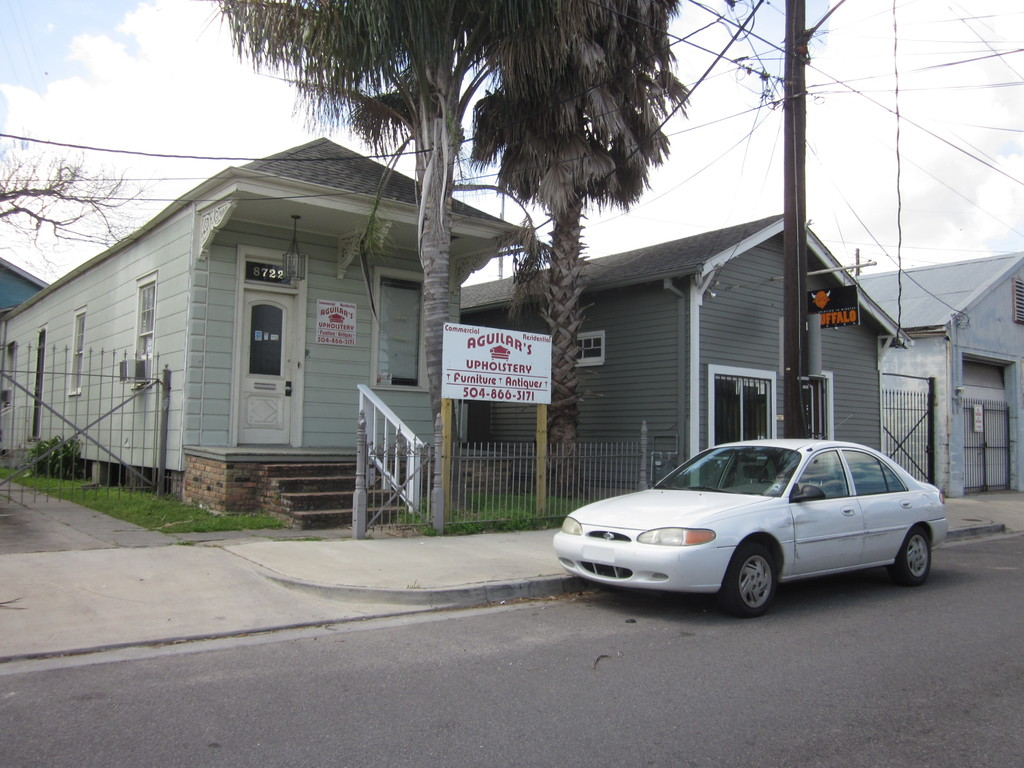Car: (552, 433, 948, 619)
